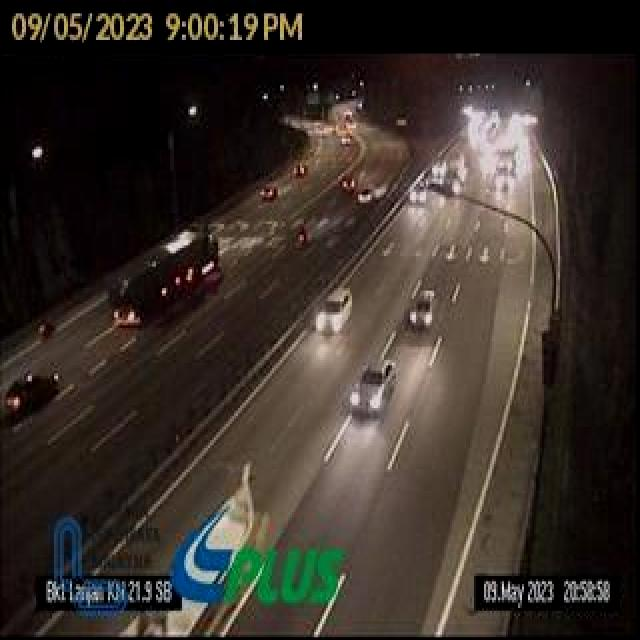Car: (0, 366, 70, 429), (346, 355, 404, 429), (311, 281, 361, 342), (408, 285, 443, 334), (289, 219, 316, 254), (256, 173, 289, 201), (353, 177, 383, 206), (292, 155, 311, 189)
Truck: (110, 228, 227, 334)
